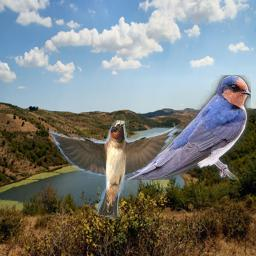Swallow: (121, 75, 251, 180), (49, 120, 179, 219)
